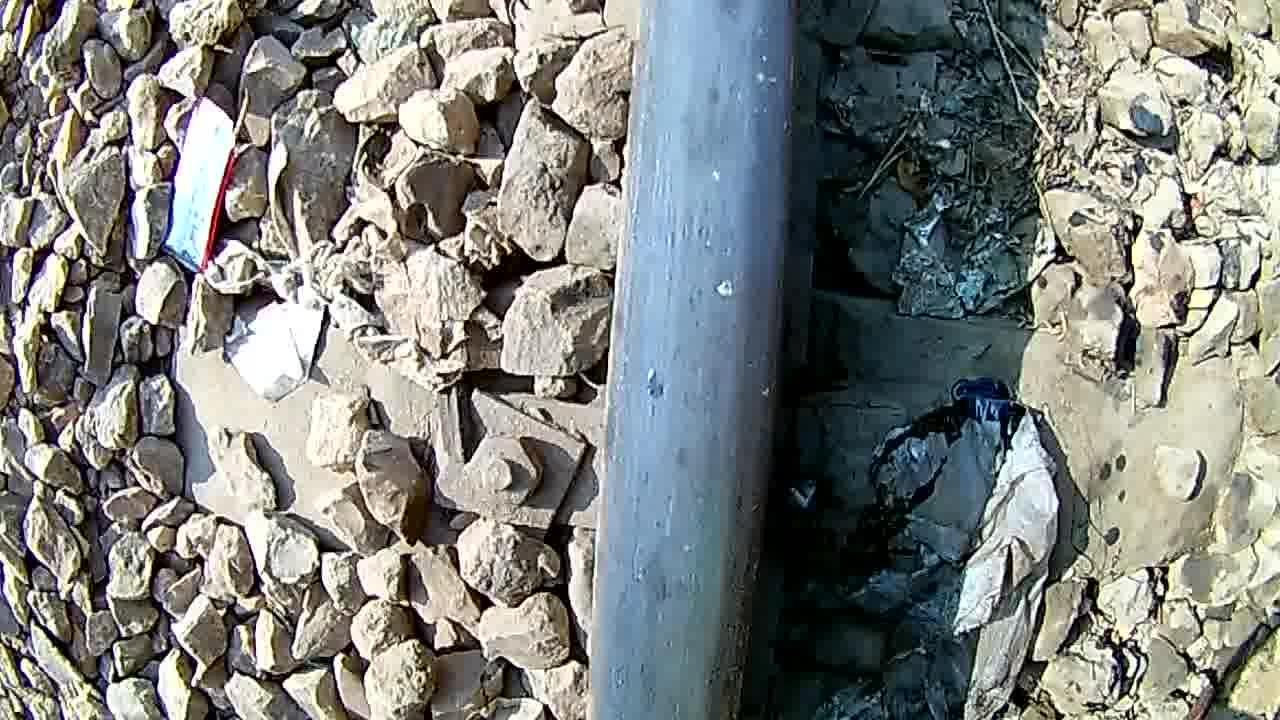crack: (624, 3, 774, 720)
